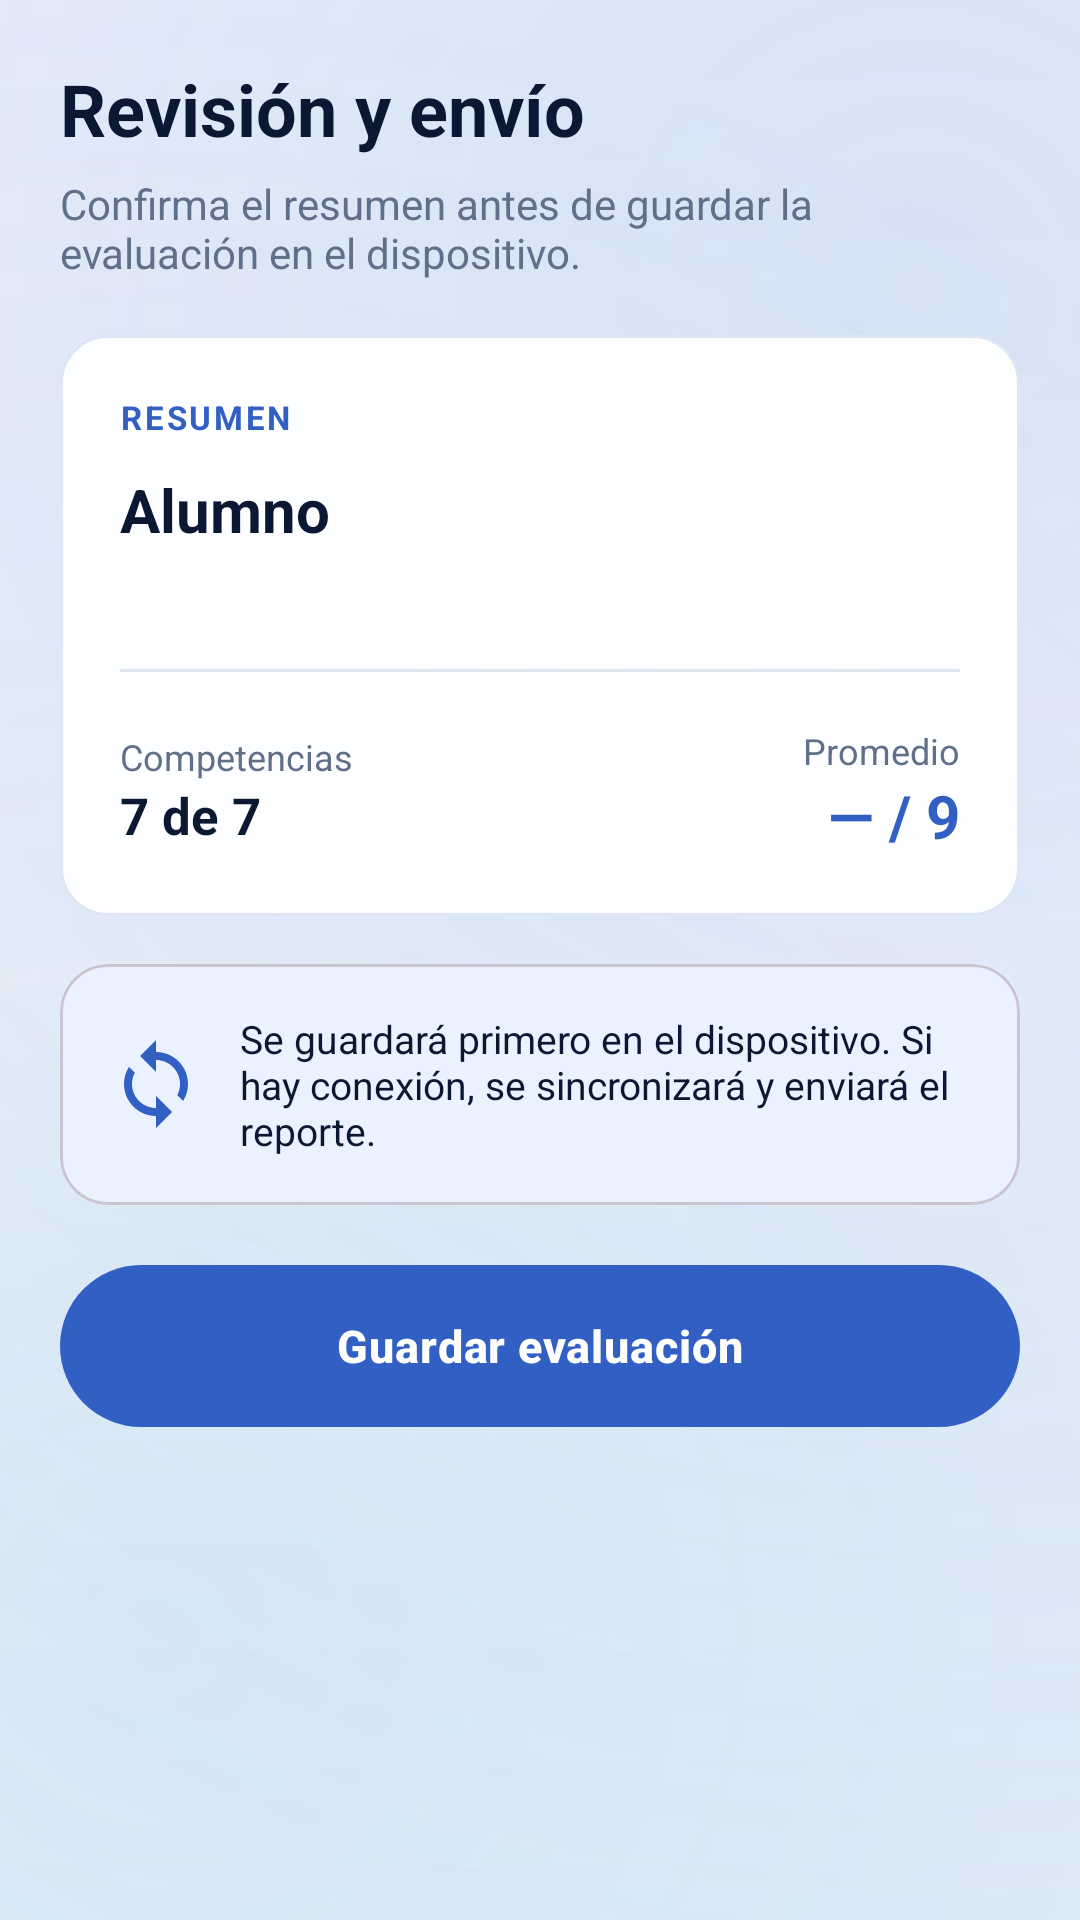

Point at icon controls on the screen. Image size 1080×1920, points as (x,y).
sync: (156,1084)
